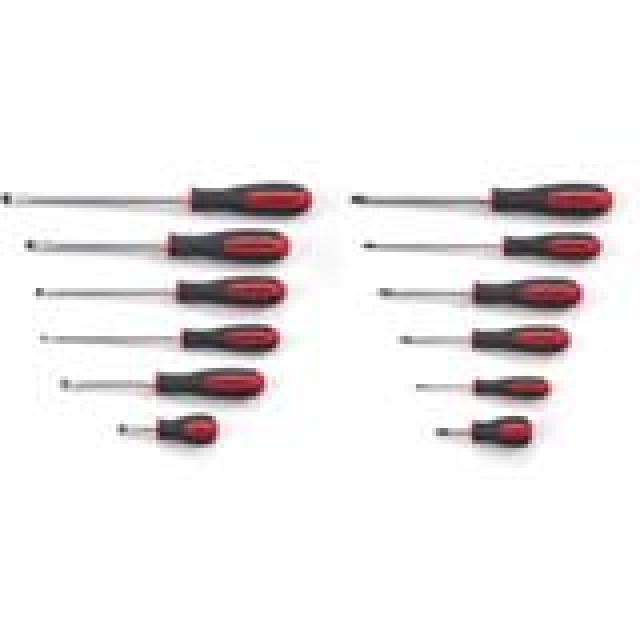screw driver: (0, 141, 325, 225), (17, 209, 307, 275), (40, 355, 315, 419), (335, 172, 635, 230), (354, 216, 629, 273), (19, 318, 317, 362), (366, 269, 606, 318), (28, 270, 306, 310), (387, 312, 608, 361), (383, 357, 572, 413), (112, 405, 249, 477), (424, 398, 568, 461)
